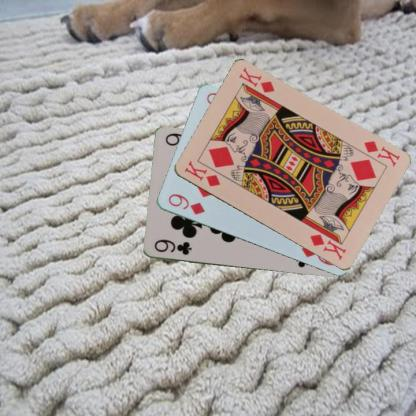9c: (151, 237, 193, 256)
9d: (166, 191, 206, 217)
Kd: (181, 158, 221, 188), (361, 138, 401, 168)
